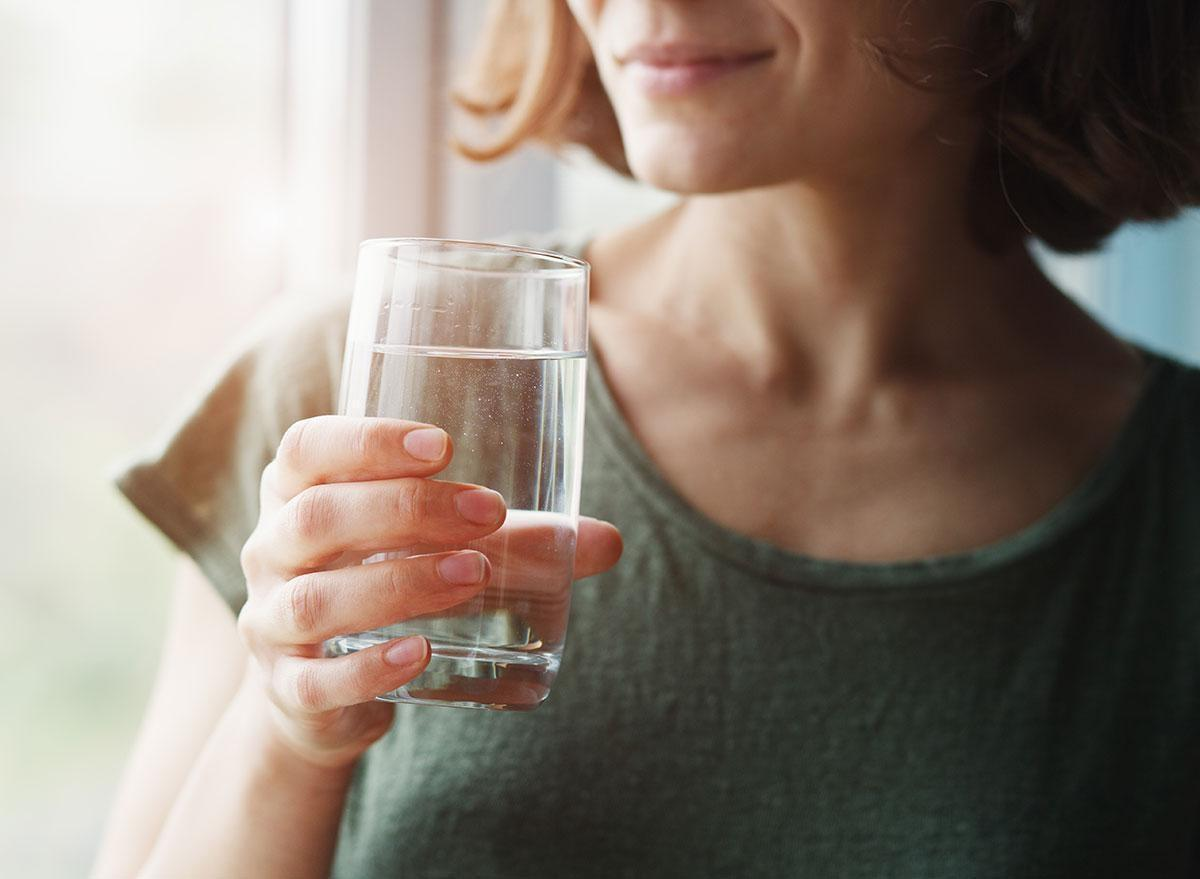glass-normal: (325, 235, 594, 708)
